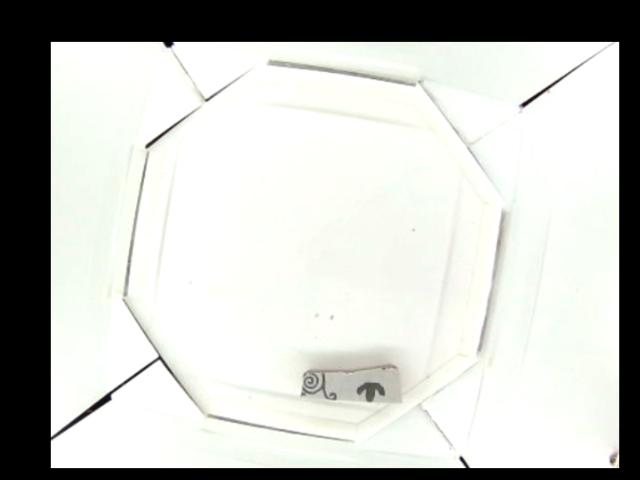China: (299, 365, 401, 402)
